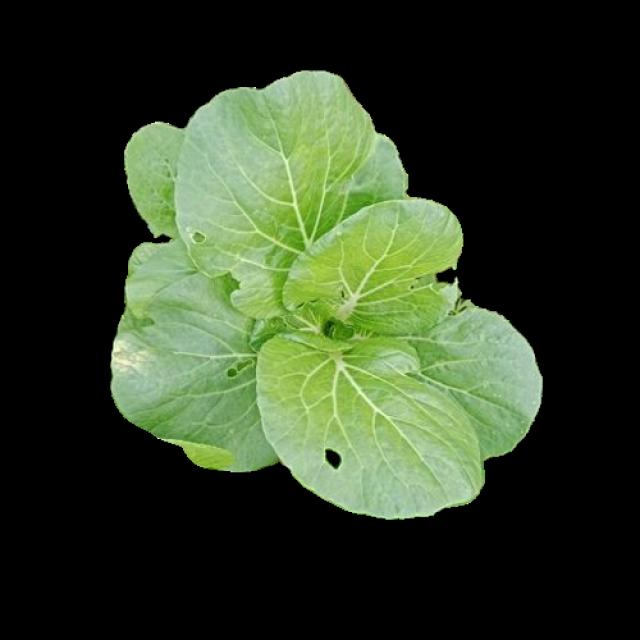mature: (113, 73, 542, 513)
unhealthy: (175, 72, 378, 316), (257, 329, 488, 518), (114, 269, 288, 470), (283, 202, 473, 324)
